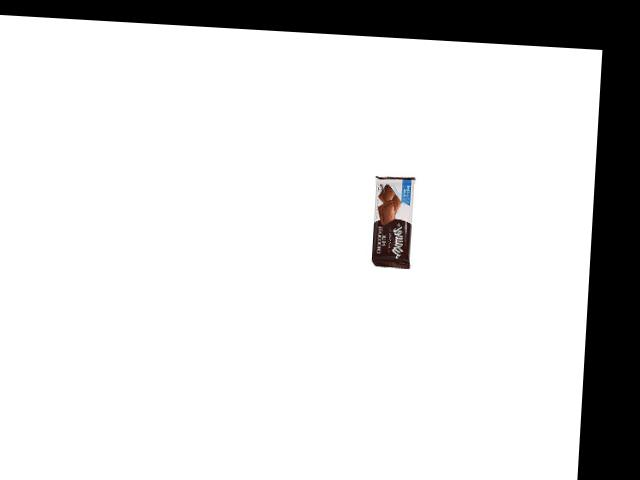chocolate: (368, 174, 417, 268)
